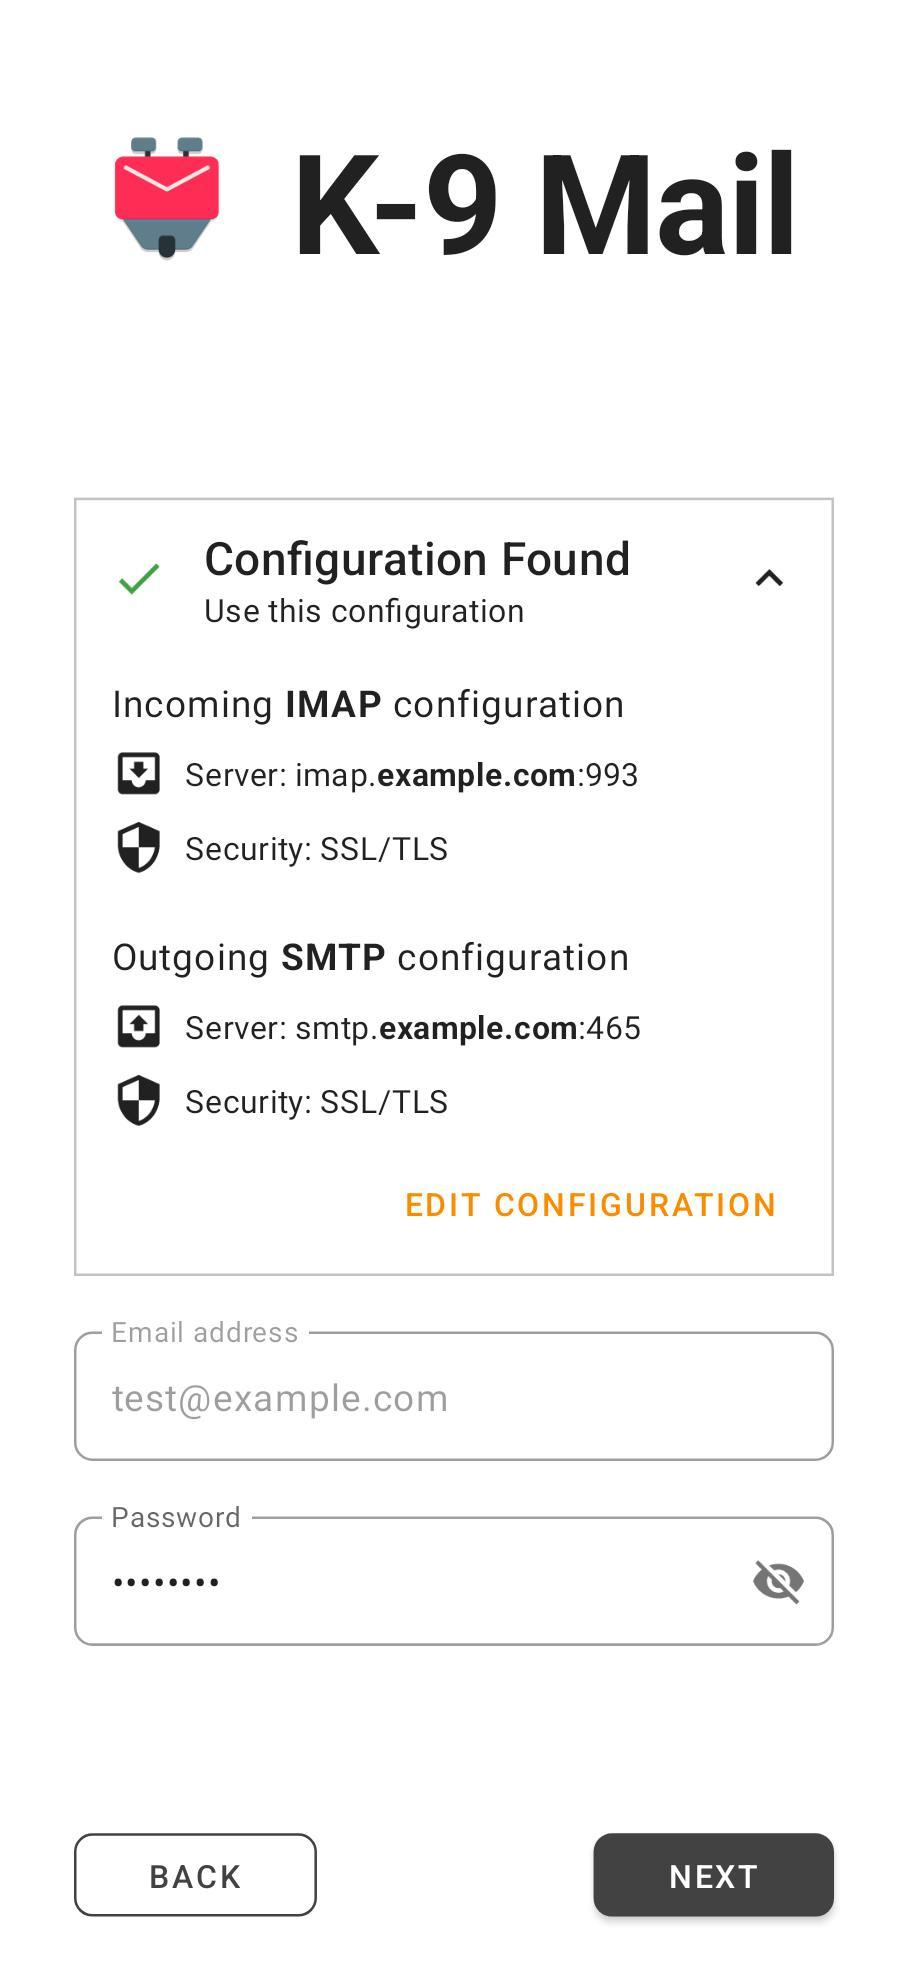button: (597, 1832, 838, 1917), (77, 1837, 316, 1922)
input: (77, 1522, 831, 1646), (79, 1333, 830, 1458)
